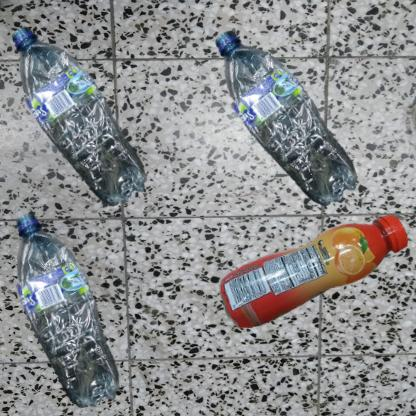botella: (213, 10, 378, 246), (10, 10, 162, 236), (213, 213, 416, 336), (10, 213, 127, 412)
